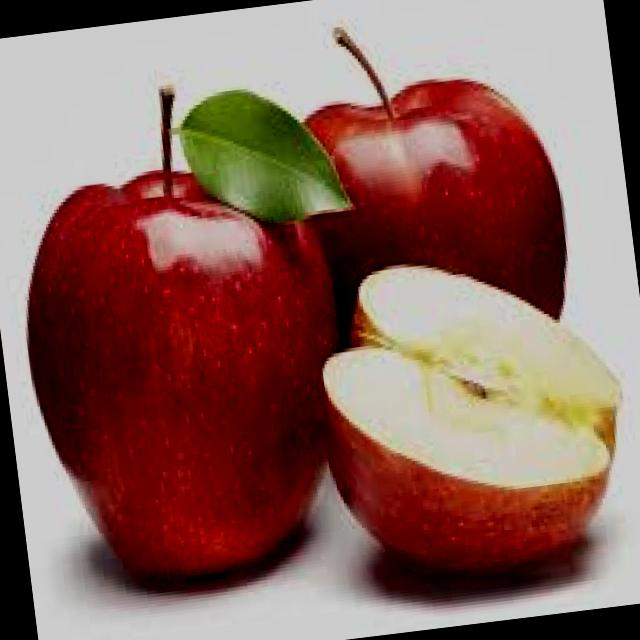Red Apple: (2, 148, 358, 595), (280, 59, 570, 349)
Used Apple: (303, 237, 638, 581)
